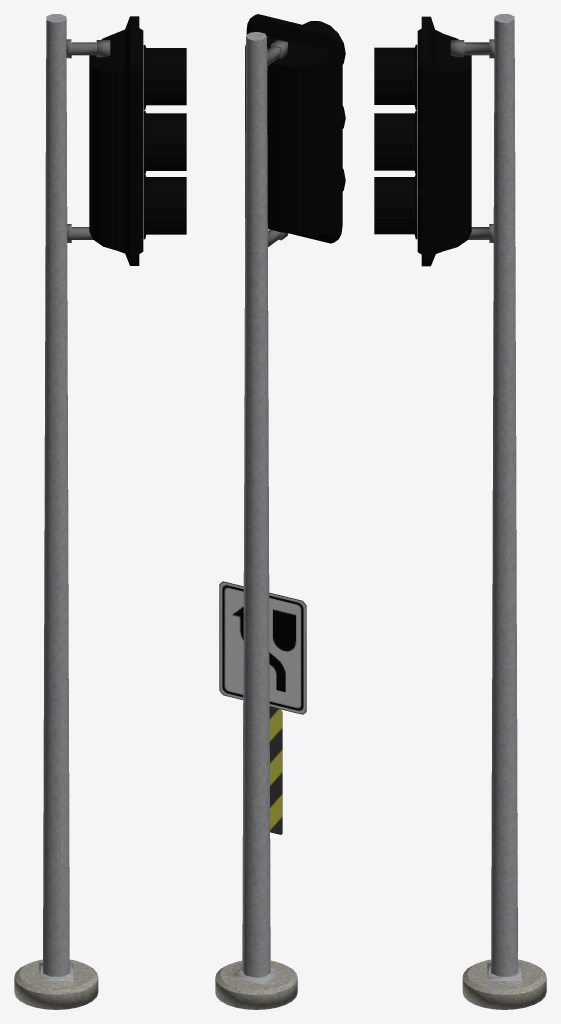
File: MiddleTrafficLight.fbx
3 views of the same model, side by side, from view 1: azimuth 90°, elevation 25°; view 2: azimuth 150°, elevation 25°; view 3: azimuth 270°, elevation 25° (orthographic).
Parts seen in each view (by area): view 1: MiddleTrafficPost, traffic light; view 2: MiddleTrafficPost, traffic light; view 3: MiddleTrafficPost, traffic light.
Boxes of the visible parts, x1=… form: MiddleTrafficPost: x1=14, y1=14, x2=110, y2=1009; traffic light: x1=89, y1=16, x2=186, y2=265; MiddleTrafficPost: x1=215, y1=31, x2=306, y2=1009; traffic light: x1=245, y1=14, x2=345, y2=243; MiddleTrafficPost: x1=450, y1=14, x2=546, y2=1009; traffic light: x1=374, y1=16, x2=471, y2=266.
Size of the model in its own units: 63.96 by 639 by 102.
Materials: 5 (4 with a texture image).
